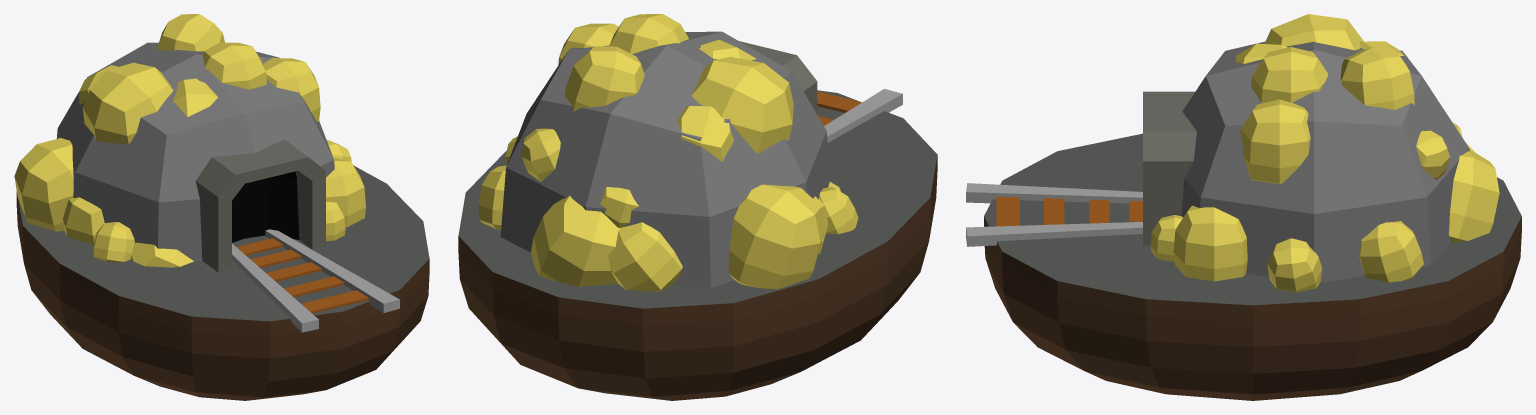
File: Prefab Mina Avanzada.fbx
3 views of the same model, side by side, from view 1: azimuth 30°, elevation 25°; view 2: azimuth 150°, elevation 25°; view 3: azimuth 270°, elevation 25° (orthographic). The views are drawn at different scales.
Visible parts, largest first — view 1: Suelo.002, Cueba.002, Minerales.002, Vias metal.002, Vias madera.002; view 2: Suelo.002, Minerales.002, Cueba.002, Vias metal.002, Vias madera.002; view 3: Suelo.002, Cueba.002, Minerales.002, Vias metal.002, Vias madera.002.
Part boxes in pixels (left/top/right/bottom): Suelo.002: left=16, top=165, right=429, bottom=400; Cueba.002: left=56, top=42, right=334, bottom=272; Minerales.002: left=14, top=14, right=365, bottom=267; Vias metal.002: left=232, top=229, right=399, bottom=332; Vias madera.002: left=236, top=238, right=368, bottom=313; Suelo.002: left=458, top=90, right=937, bottom=400; Minerales.002: left=478, top=14, right=858, bottom=291; Cueba.002: left=500, top=31, right=830, bottom=288; Vias metal.002: left=824, top=89, right=902, bottom=142; Vias madera.002: left=817, top=91, right=861, bottom=125; Suelo.002: left=984, top=133, right=1521, bottom=400; Cueba.002: left=1143, top=41, right=1469, bottom=282; Minerales.002: left=1150, top=14, right=1499, bottom=292; Vias metal.002: left=966, top=183, right=1142, bottom=246; Vias madera.002: left=996, top=196, right=1142, bottom=226.
Bounding box in the file's own units: 342 × 289 × 450.
